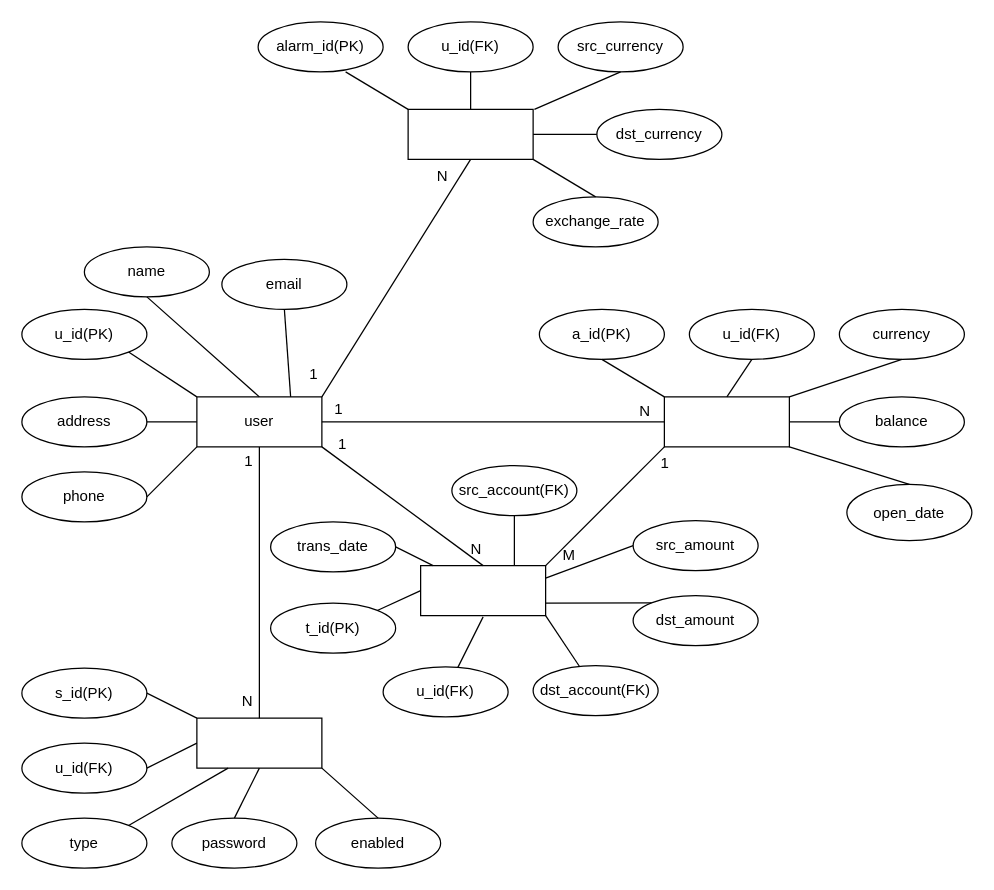
Image size: 994x890. Some labels were removed from this diagram. The shapes that lost their labels are listed below. From the top down, each one's centre as x and y in pixels, then its label:
(470,133): alarm
(726,421): account
(482,590): transaction
(259,742): security
